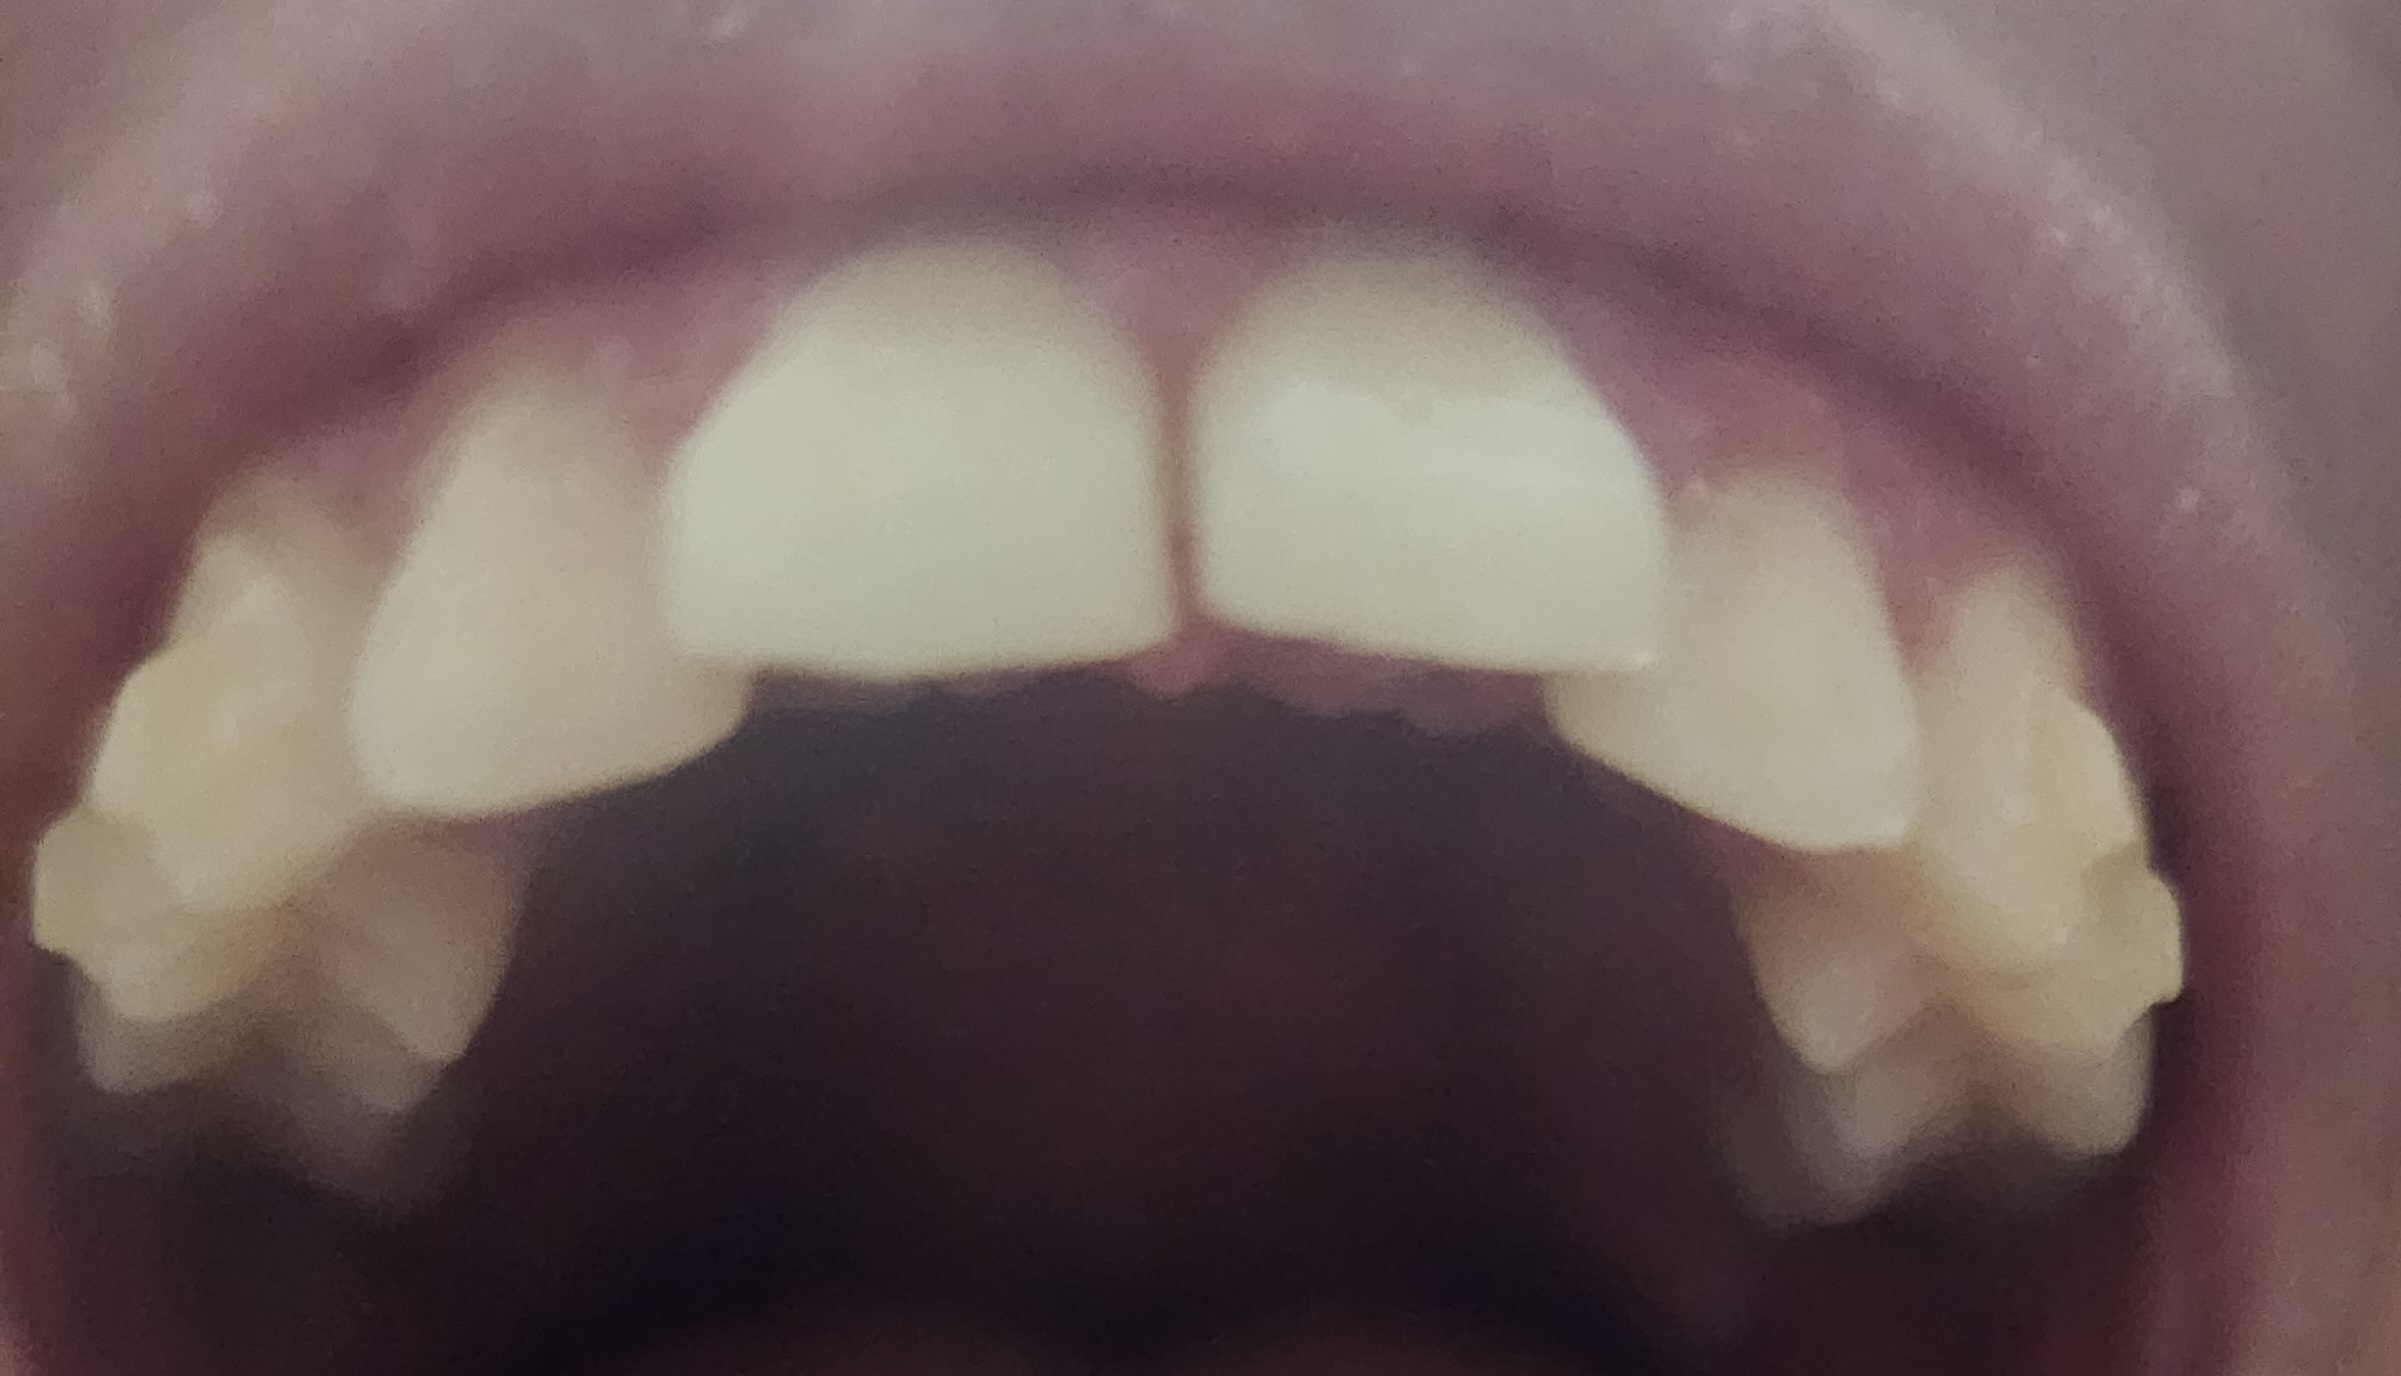teeth: (755, 297, 1141, 597), (1255, 299, 1603, 589), (419, 455, 651, 757), (1666, 530, 1885, 784), (110, 874, 462, 1030), (162, 553, 336, 860), (1946, 643, 2109, 917), (1895, 898, 2145, 1067)
